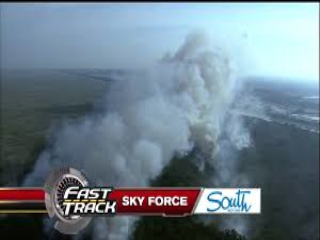smoke: (33, 41, 270, 185)
